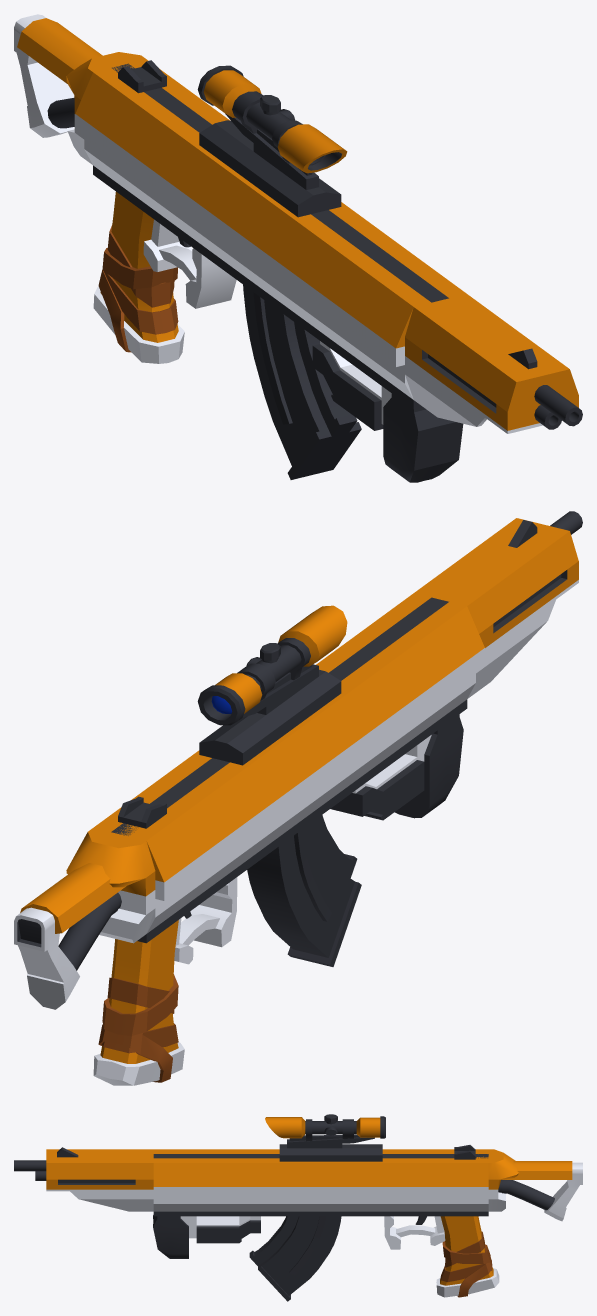
3 renders of one model, top to bottom at view 1: azimuth 30°, elevation 25°; view 2: azimuth 150°, elevation 25°; view 3: azimuth 270°, elevation 25°, orthographic. The views are drawn at different scales.
Parts seen in each view (by area): view 1: largeBlaster_center, mediumBlaster_magwell_scorpion, grip_trigger_carmine_bandages, scope_reddot, magazine_scorpion, grip_guardian, stock_scorpion, mediumBlaster_front_round, barrel_simple_short, detailTargetSight; view 2: largeBlaster_center, grip_trigger_carmine_bandages, mediumBlaster_magwell_scorpion, scope_reddot, magazine_scorpion, stock_scorpion, grip_guardian, mediumBlaster_front_round, detailTargetSight; view 3: largeBlaster_center, mediumBlaster_magwell_scorpion, grip_trigger_carmine_bandages, scope_reddot, magazine_scorpion, grip_guardian, stock_scorpion, mediumBlaster_front_round, barrel_simple_short, detailTargetSight.
Boxes of the visible parts, x1,y1,x2,y2 form: largeBlaster_center: (75, 59, 466, 409); mediumBlaster_magwell_scorpion: (405, 294, 578, 433); grip_trigger_carmine_bandages: (93, 192, 236, 363); scope_reddot: (197, 65, 347, 217); magazine_scorpion: (243, 284, 361, 479); grip_guardian: (312, 341, 463, 482); stock_scorpion: (14, 14, 102, 137); mediumBlaster_front_round: (66, 52, 147, 164); barrel_simple_short: (534, 385, 582, 429); detailTargetSight: (118, 60, 166, 93); largeBlaster_center: (95, 593, 484, 943); grip_trigger_carmine_bandages: (93, 877, 237, 1085); mediumBlaster_magwell_scorpion: (414, 518, 578, 698); scope_reddot: (197, 605, 347, 765); magazine_scorpion: (247, 815, 361, 966); stock_scorpion: (14, 863, 125, 1009); grip_guardian: (330, 714, 463, 820); mediumBlaster_front_round: (66, 819, 167, 943); detailTargetSight: (118, 796, 166, 828); largeBlaster_center: (153, 1149, 488, 1216); mediumBlaster_magwell_scorpion: (46, 1149, 153, 1211); grip_trigger_carmine_bandages: (384, 1216, 499, 1297); scope_reddot: (265, 1114, 385, 1161); magazine_scorpion: (249, 1216, 341, 1301); grip_guardian: (153, 1215, 260, 1258); stock_scorpion: (498, 1161, 582, 1221); mediumBlaster_front_round: (475, 1149, 518, 1211); barrel_simple_short: (14, 1160, 46, 1180); detailTargetSight: (454, 1145, 475, 1159).
Size of the model in its own units: 0.5 by 1.85 by 5.3.
